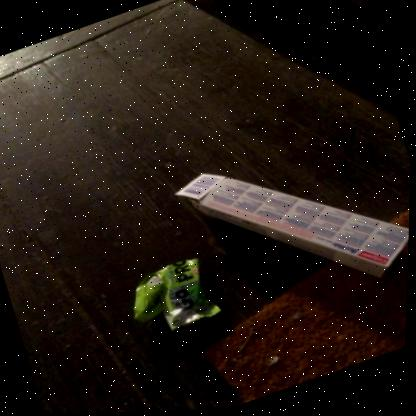Paper: (175, 174, 410, 281)
Plastic: (135, 258, 224, 332)
